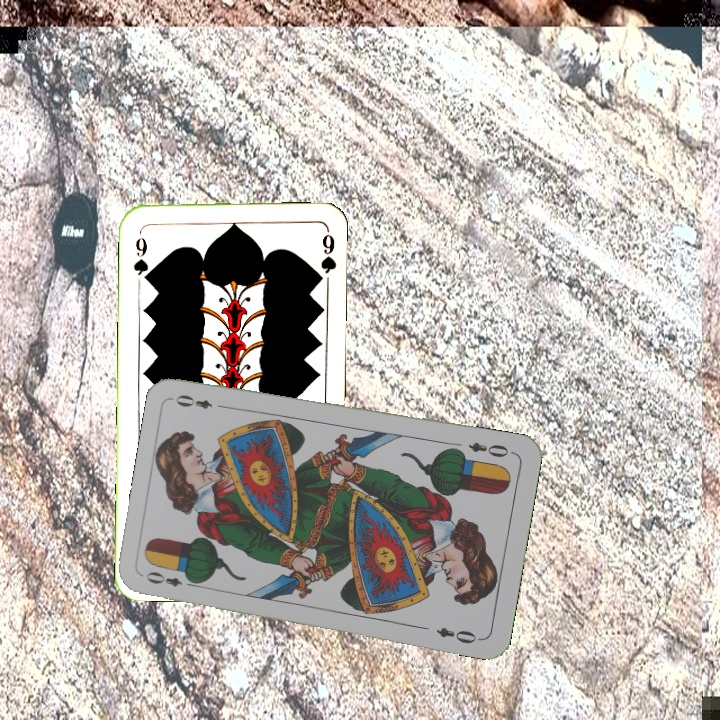EO: (141, 567, 200, 590), (464, 437, 516, 460)
G9: (129, 233, 152, 284)
